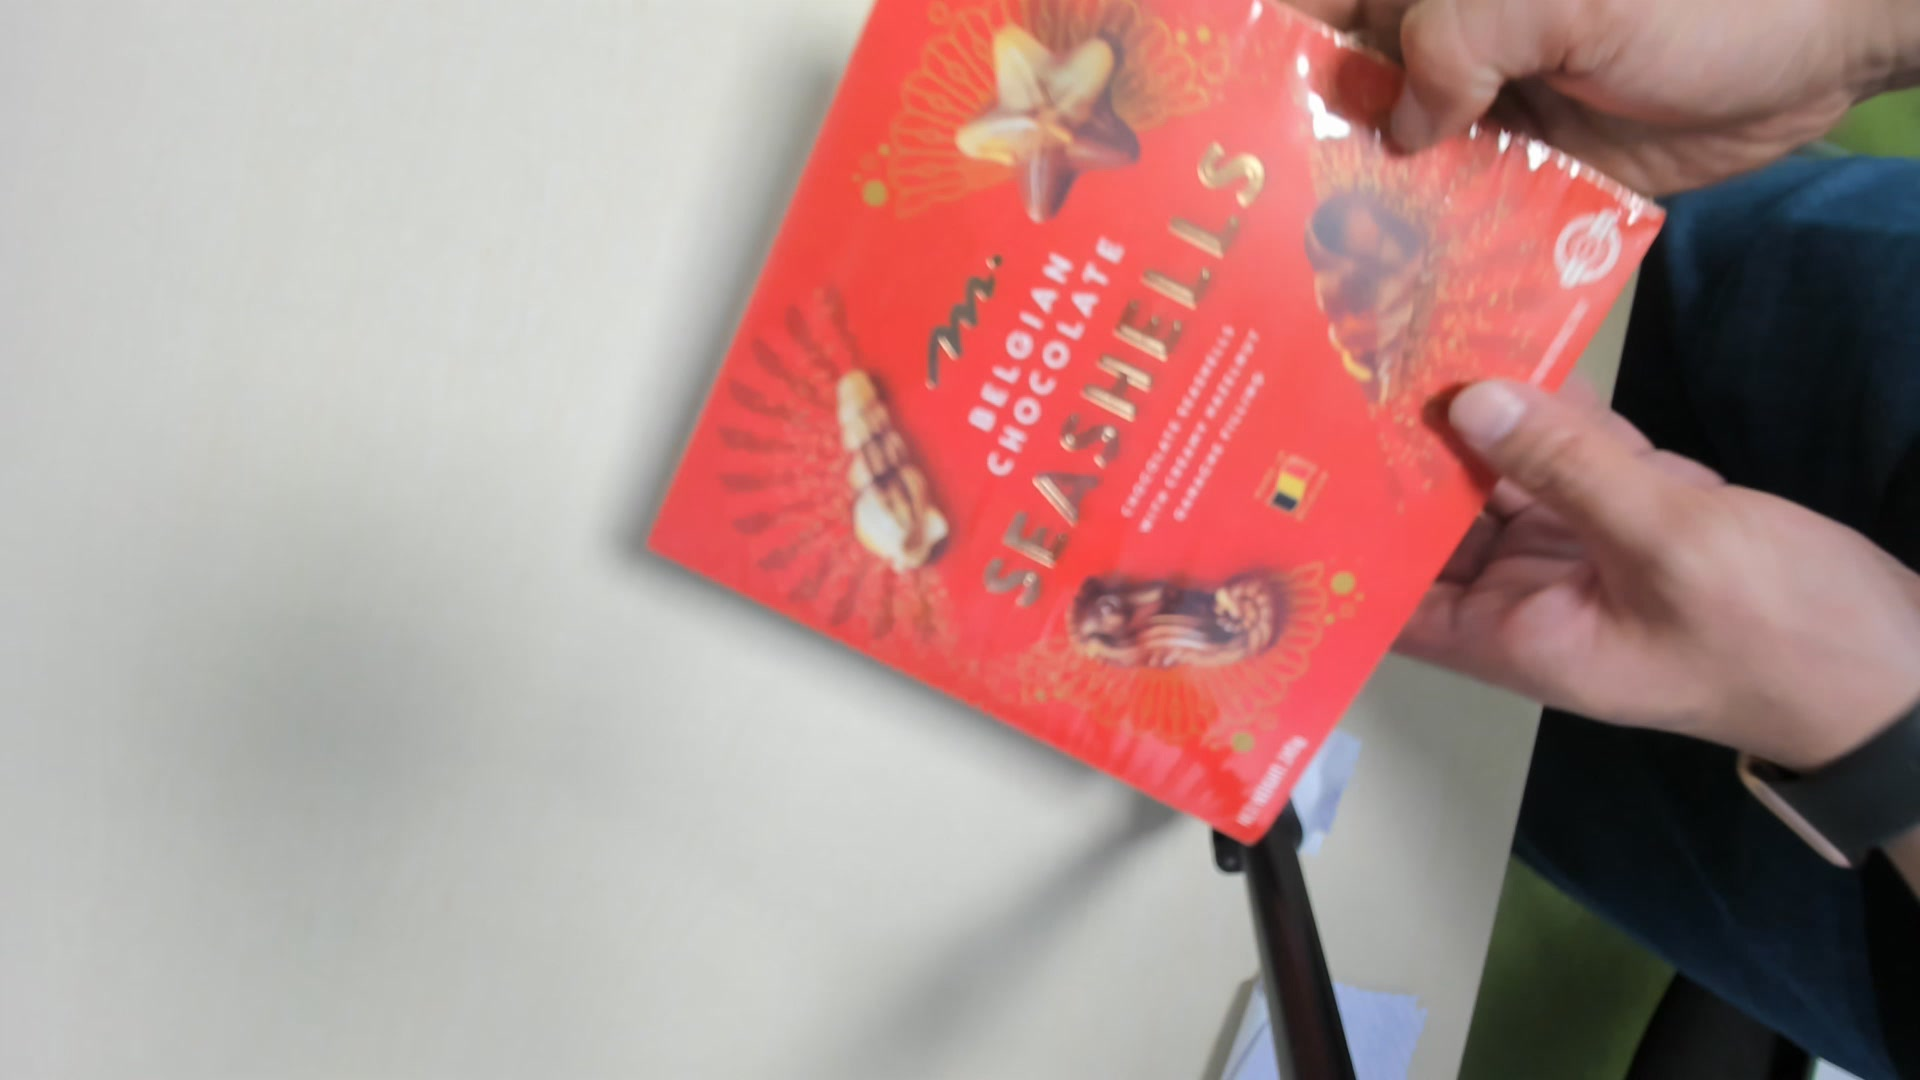SweetsChocolatesOthers_200-299g_Halal_Nonhealthy: (630, 13, 1667, 847)
